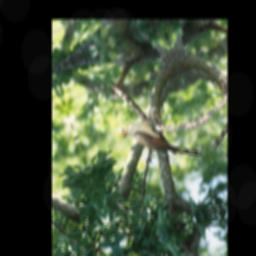Cuckoo: (117, 97, 205, 188)
